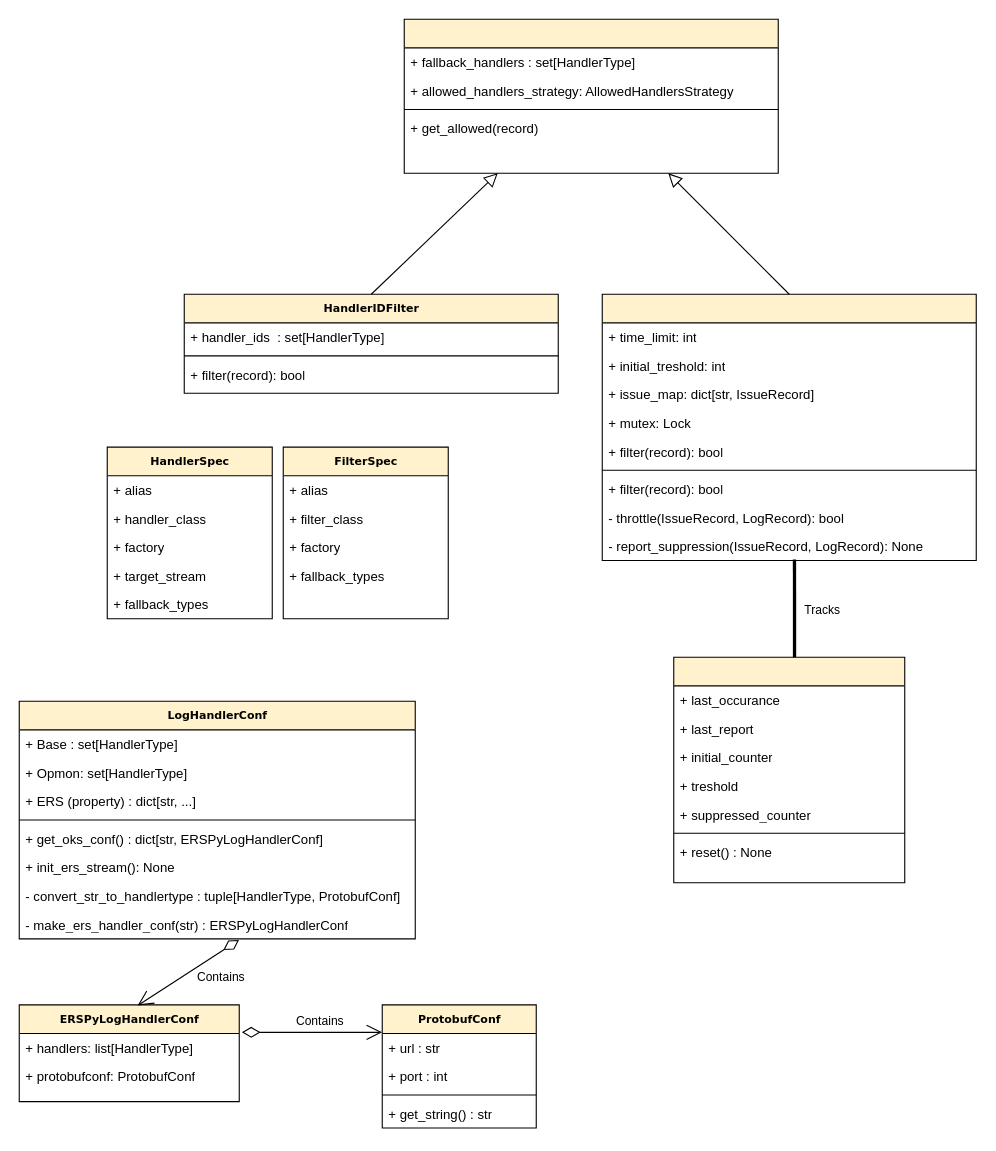
The diagram is 996 pixels wide and 1151 high, and some of its shapes have lost their labels. The box of each missing label's shape, as (x1, y1, x2, y2) in pixels:
BaseHandleFilter: (403, 18, 778, 173)
IssueRecord: (673, 656, 905, 883)
ThrottleFilter: (601, 293, 976, 560)
